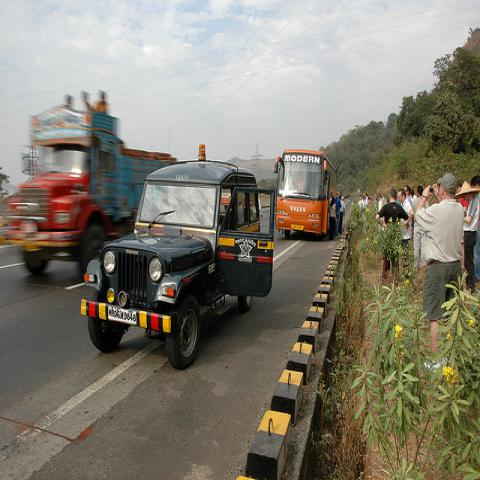bus: (275, 149, 337, 238)
car: (77, 151, 274, 366)
truck: (78, 146, 277, 372), (0, 111, 176, 276)
